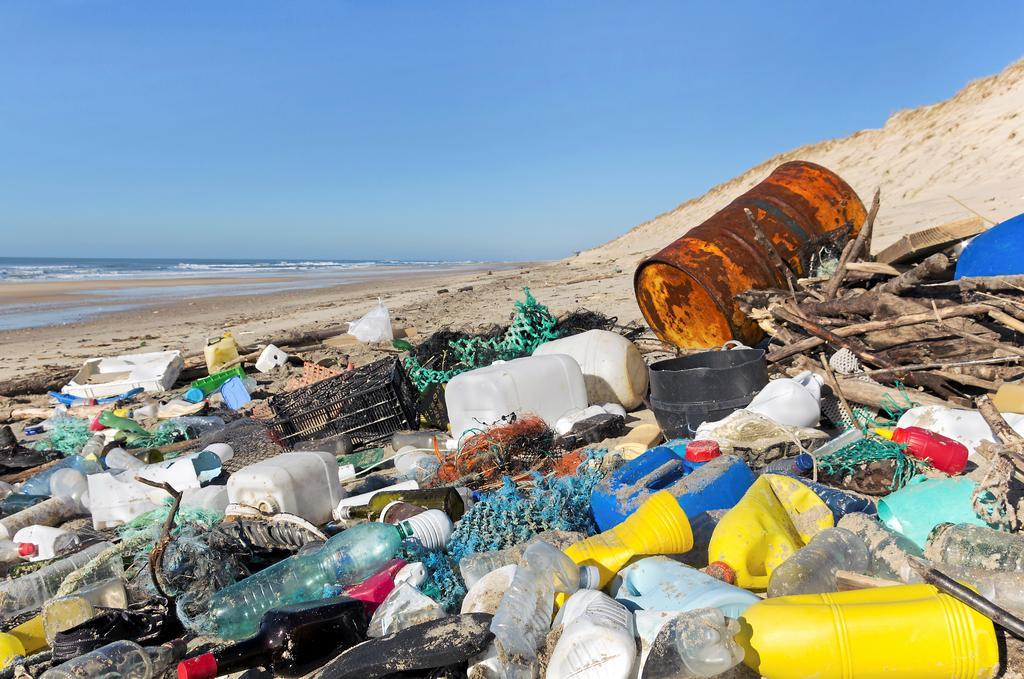Plastic: (165, 501, 449, 649), (736, 504, 890, 649), (491, 533, 606, 676), (3, 531, 153, 627), (626, 584, 756, 679)
